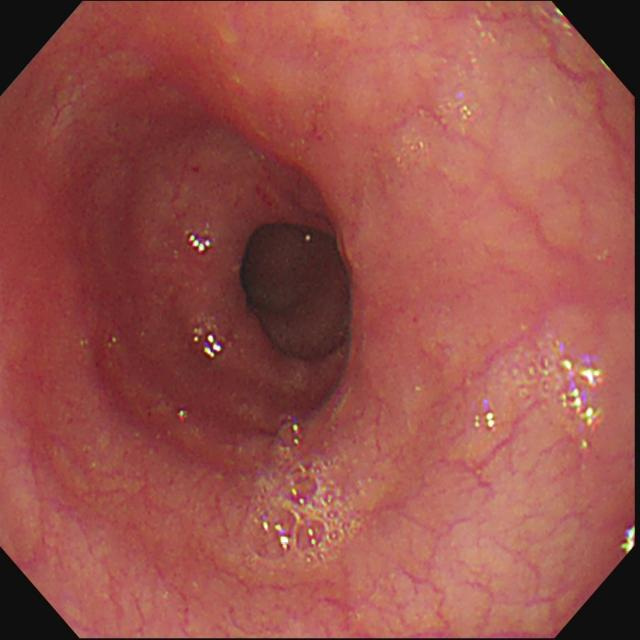E: (231, 212, 363, 369)
T: (251, 418, 355, 565)
U: (559, 358, 606, 430), (195, 329, 223, 361), (188, 231, 212, 253), (622, 527, 635, 554)
